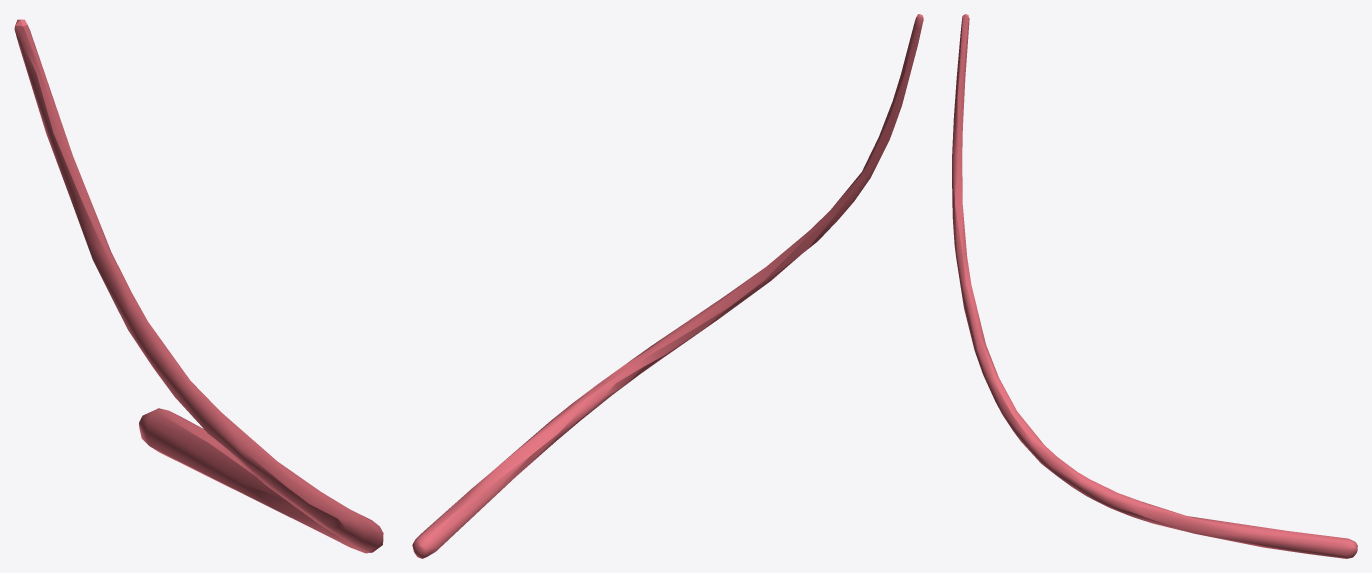
Rendered from fma49974_fj5212.glb.
3 renders of one model, left to right at view 1: azimuth 30°, elevation 25°; view 2: azimuth 150°, elevation 25°; view 3: azimuth 270°, elevation 25°, orthographic. The views are drawn at different scales.
Visible parts, largest first — view 1: FMA49974_FJ5212; view 2: FMA49974_FJ5212; view 3: FMA49974_FJ5212.
Boxes of the visible parts, left/top/right/bottom form: FMA49974_FJ5212: left=14, top=19, right=383, bottom=553; FMA49974_FJ5212: left=412, top=14, right=923, bottom=558; FMA49974_FJ5212: left=952, top=14, right=1357, bottom=558.
Bounding box in the file's own units: 0.0116 × 0.0169 × 0.0149.
